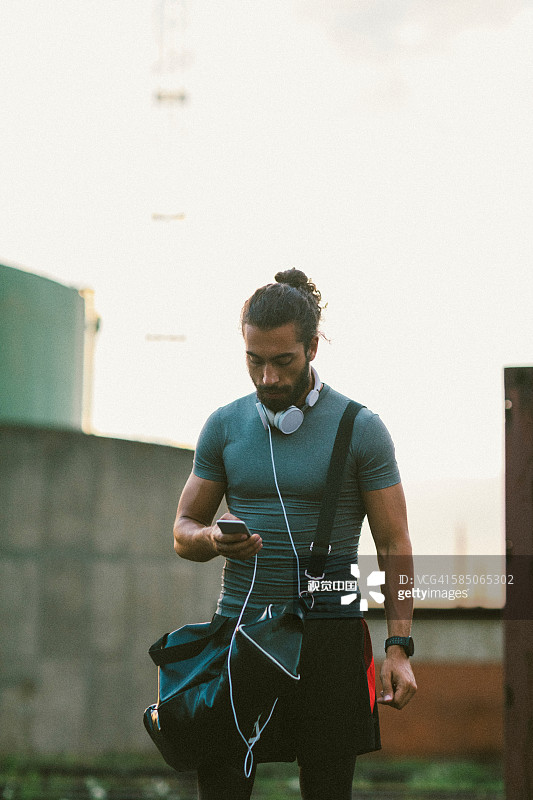no-phone: (372, 630, 423, 718)
reading: (202, 503, 272, 573)
